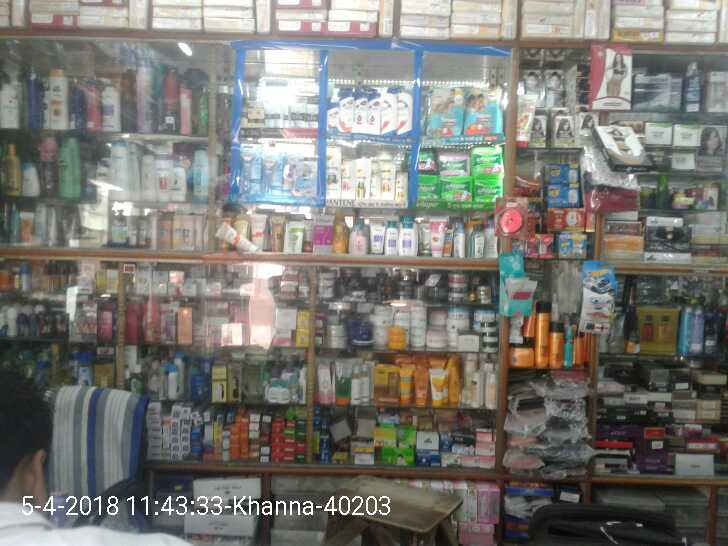venus: (240, 143, 262, 193), (264, 152, 284, 194)
